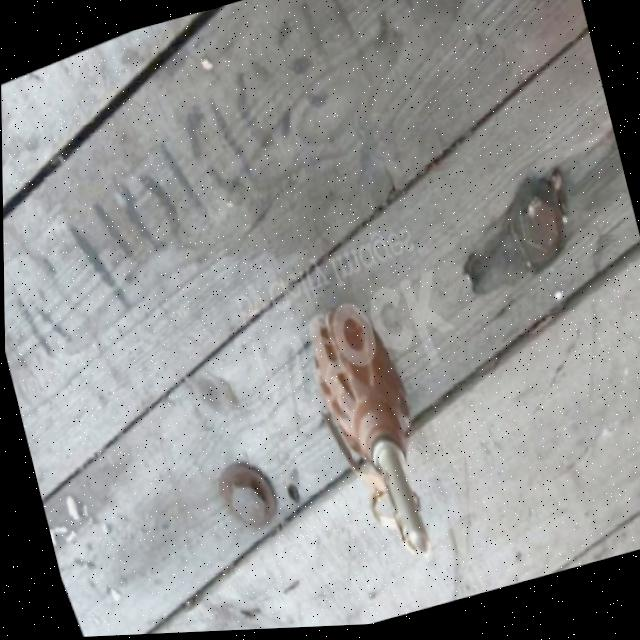grenade: (284, 288, 469, 600)
